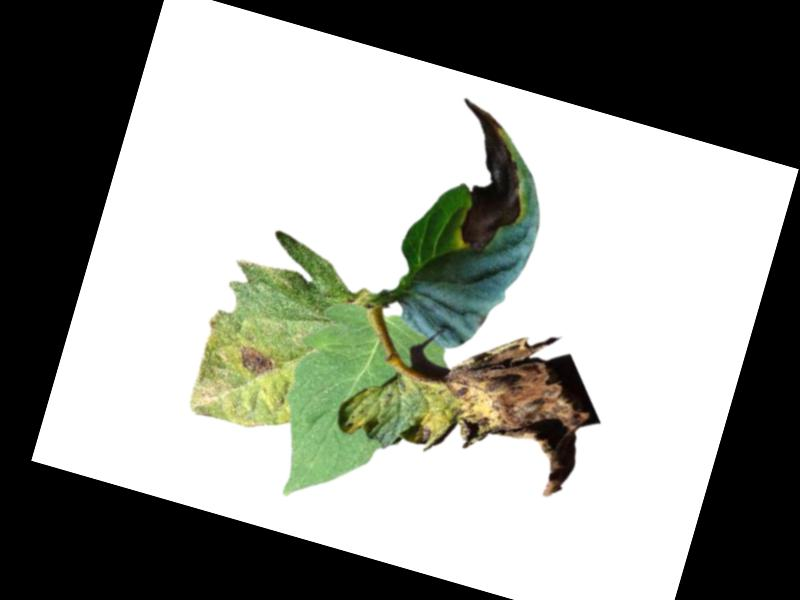Early_blight: (393, 310, 607, 505), (422, 98, 551, 264), (234, 345, 280, 380)
